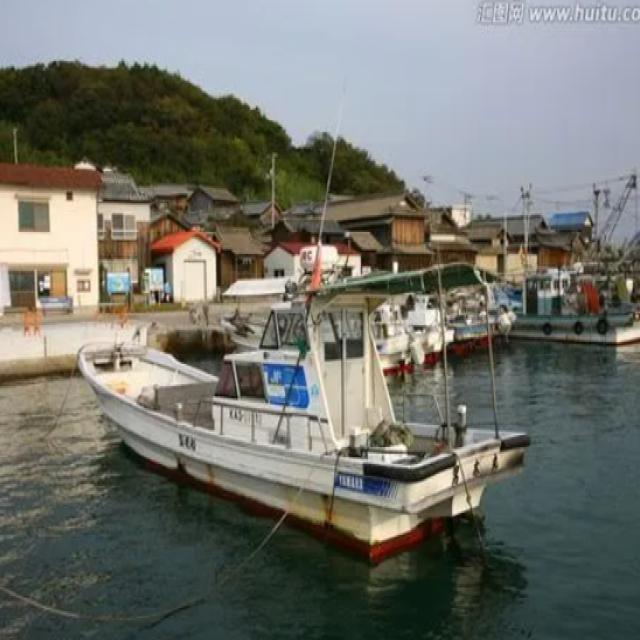houseboat: (74, 282, 514, 570)
